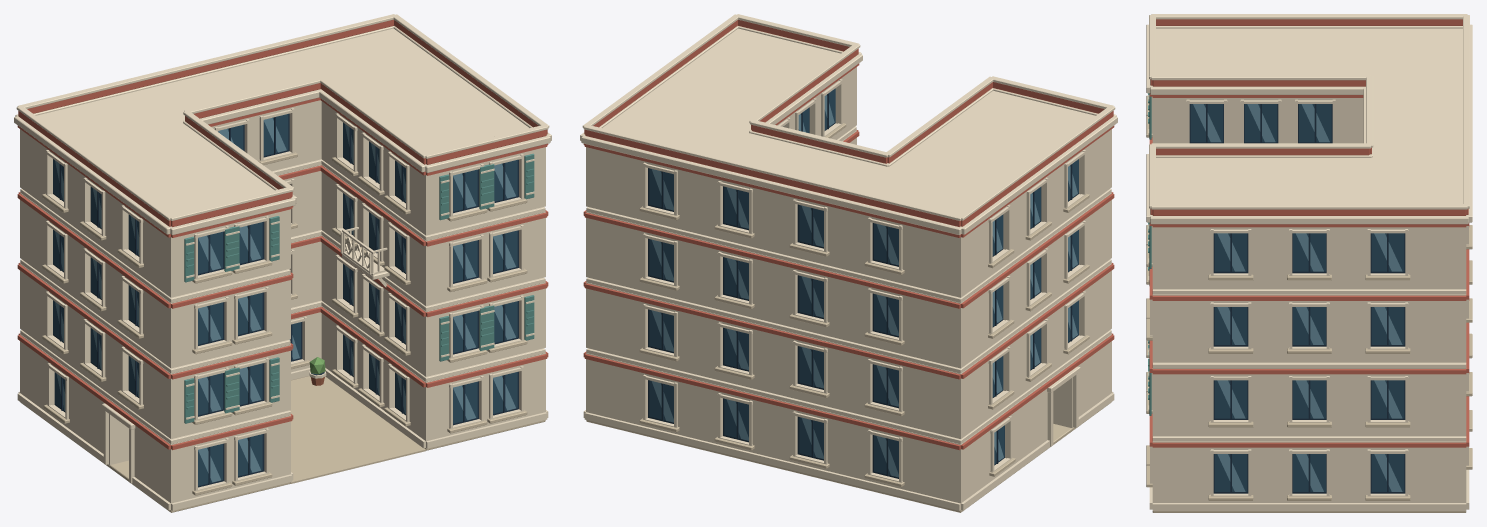
File: courtyard_apartments.glb
3 views of the same model, side by side, from view 1: azimuth 30°, elevation 25°; view 2: azimuth 150°, elevation 25°; view 3: azimuth 270°, elevation 25° (orthographic). The views are drawn at different scales.
Parts seen in each view (by area): view 1: CourtyardApartments_StaticMesh; view 2: CourtyardApartments_StaticMesh; view 3: CourtyardApartments_StaticMesh.
Part boxes in pixels (bbox=[...]): CourtyardApartments_StaticMesh: bbox=[14, 14, 551, 512]; CourtyardApartments_StaticMesh: bbox=[580, 14, 1117, 512]; CourtyardApartments_StaticMesh: bbox=[1146, 14, 1472, 512].
Bounding box in the file's own units: 17.68 × 12.99 × 12.48.
